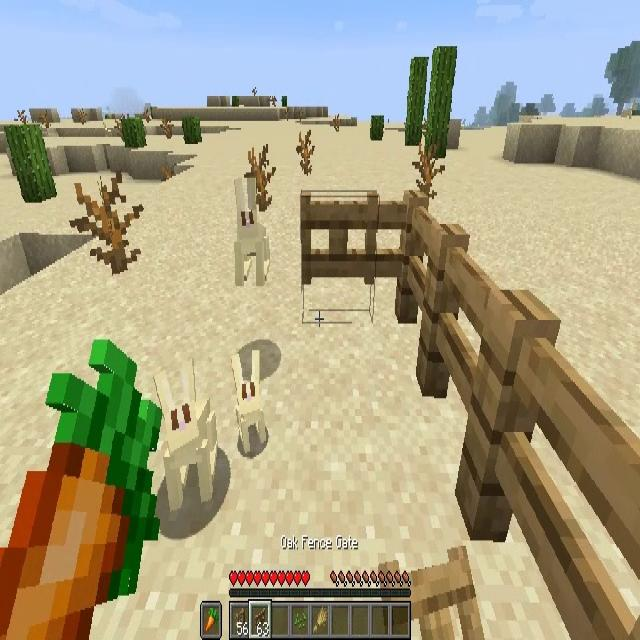rabbit: (155, 363, 220, 508), (234, 180, 270, 286), (234, 349, 267, 451)
